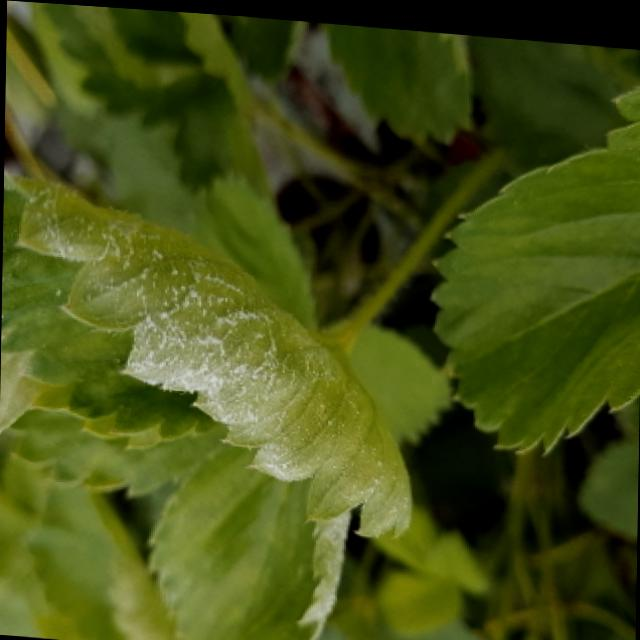Powdery Mildew Leaf: (0, 166, 413, 533), (147, 441, 351, 640), (0, 352, 44, 432)
